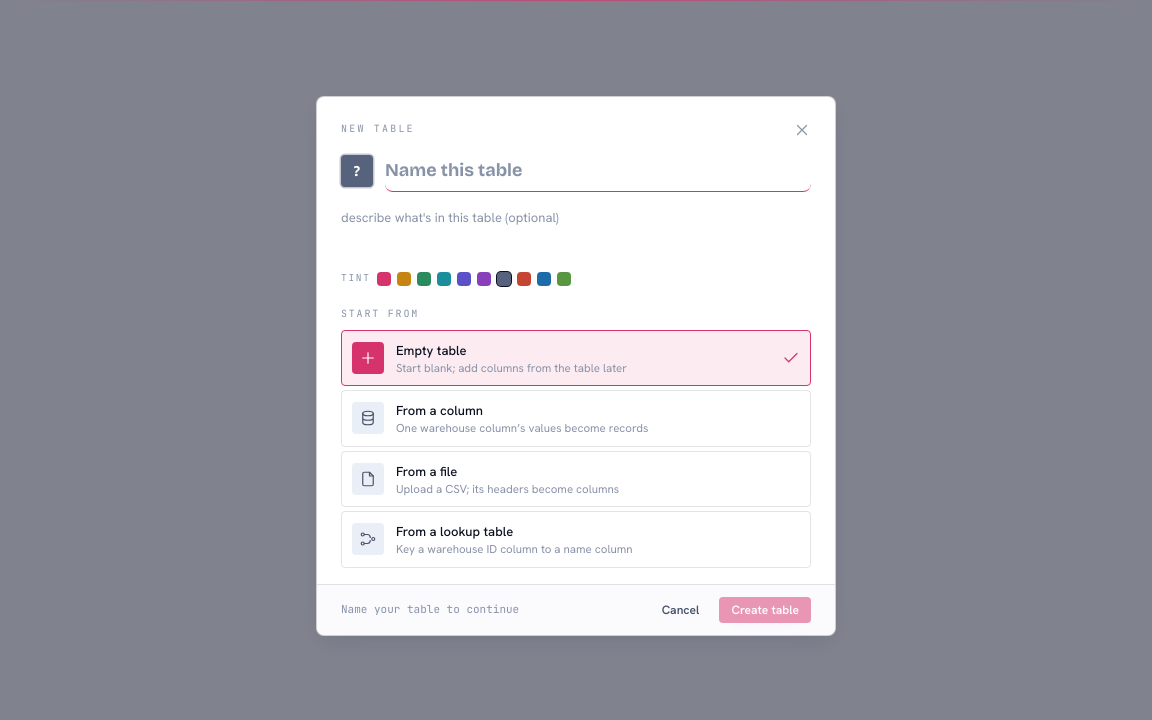
Test: CreateTableModal — discard guard › closing with a dirty form (typed name) shows discard confirmation
The image size is (1152, 720).
// Type a name to make the form dirty
Type "My Table" into the field with placeholder "Name this table" at (598, 171), box left=385, top=151, right=811, bottom=192
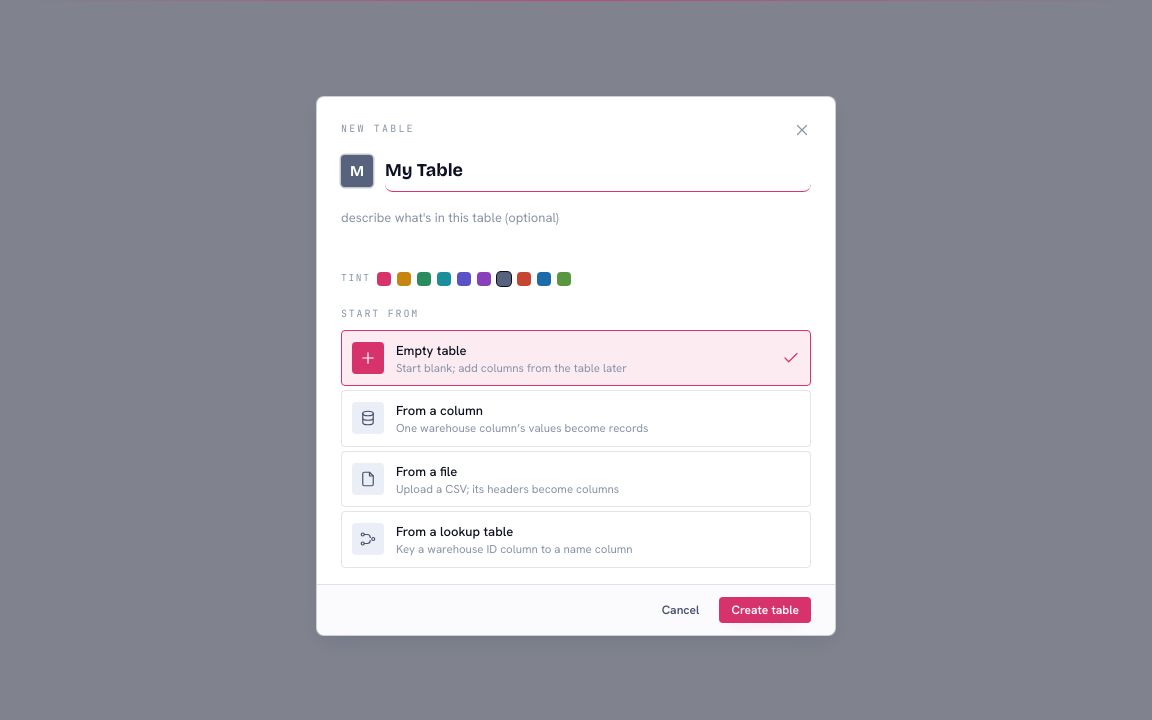
// Click the X close button
Click the button named "close" at (802, 130), box left=793, top=121, right=811, bottom=139
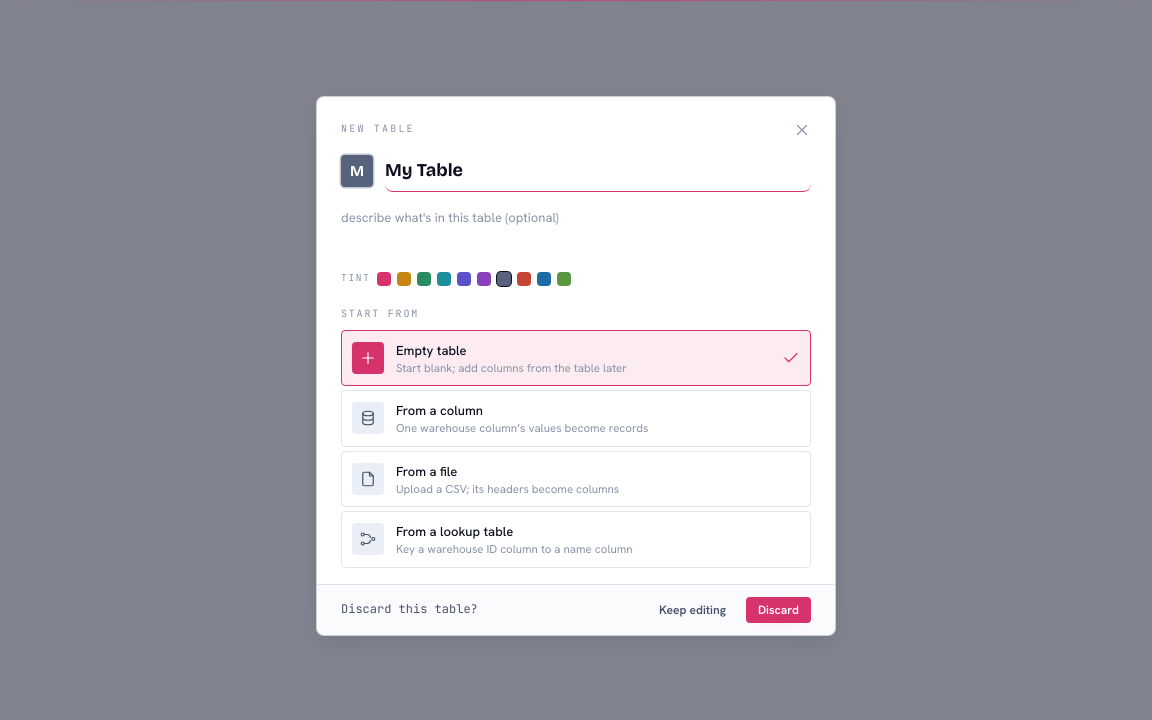
Result: the text "Discard this table?" is shown at left=341, top=600, right=478, bottom=619
